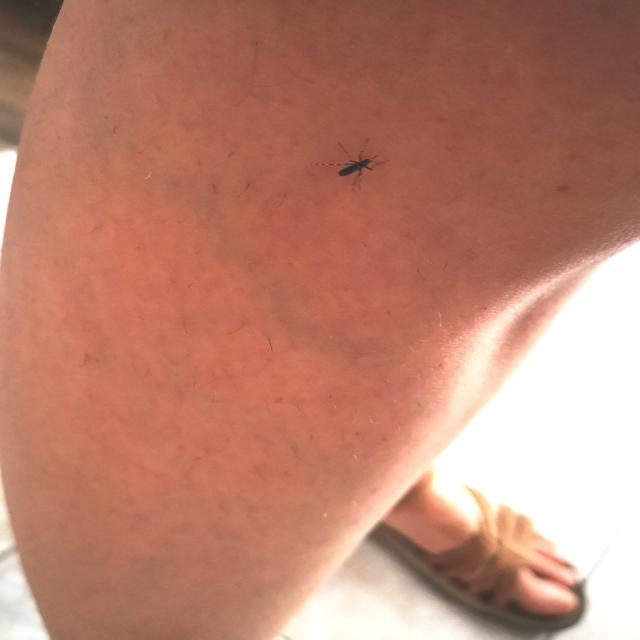albopictus: (307, 130, 390, 194)
